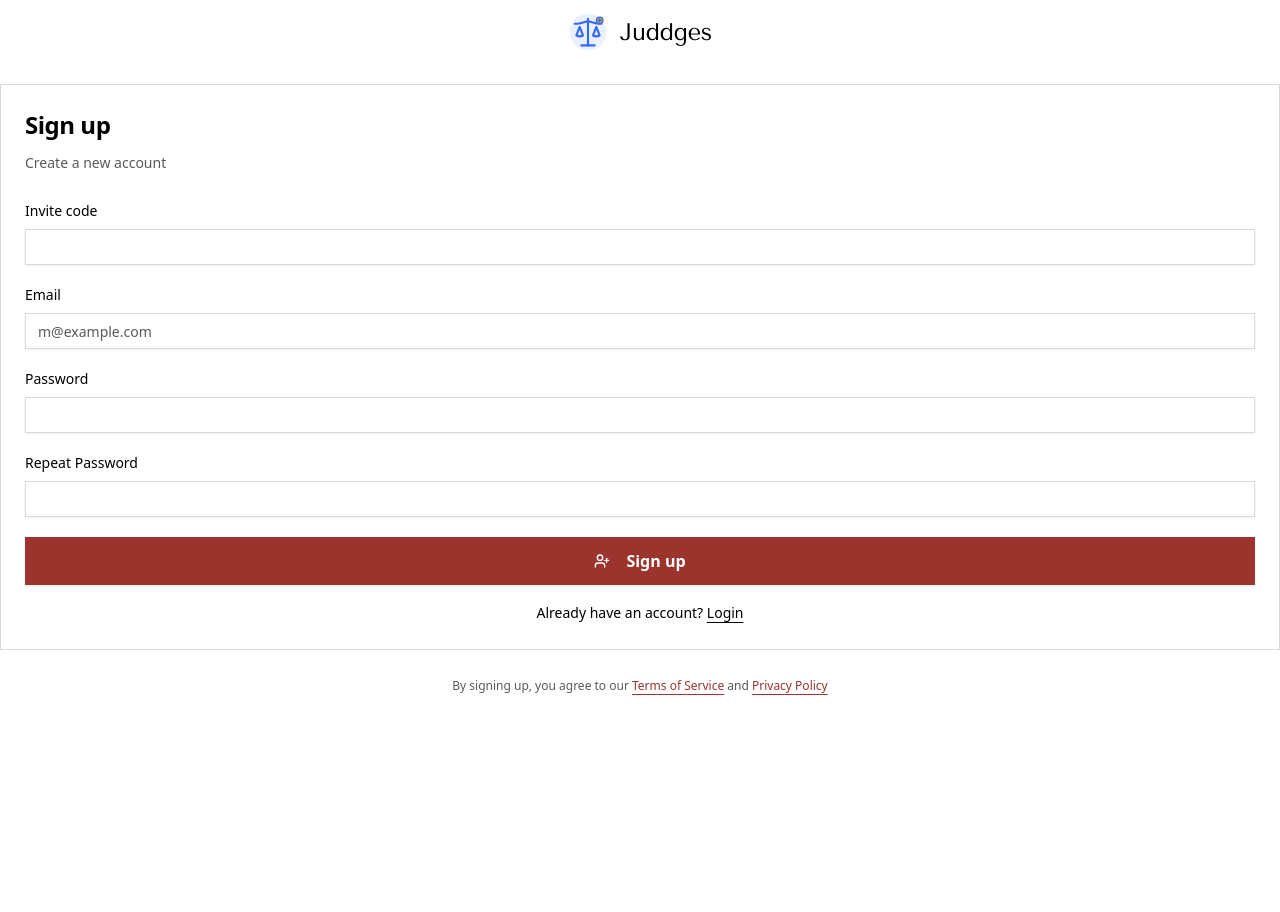
SignUpForm invite redemption errors › still falls back to detail.message for a non-429 refusal
In the field labelled "Invite code": x=640, y=247 [25, 229, 1255, 265], type "PILOT-2026"
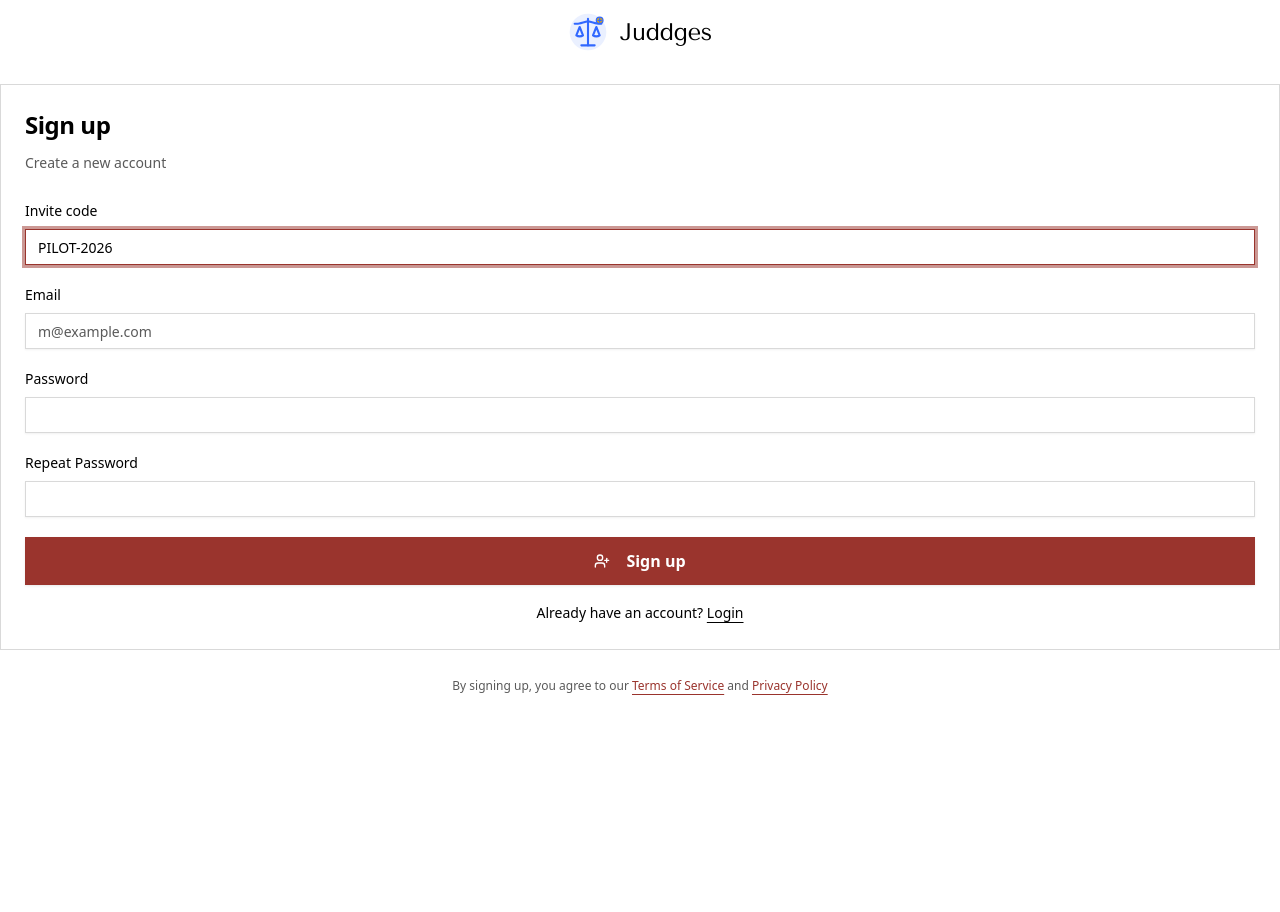
In the field labelled "Email": x=640, y=331 [25, 313, 1255, 349], type "a@example.org"
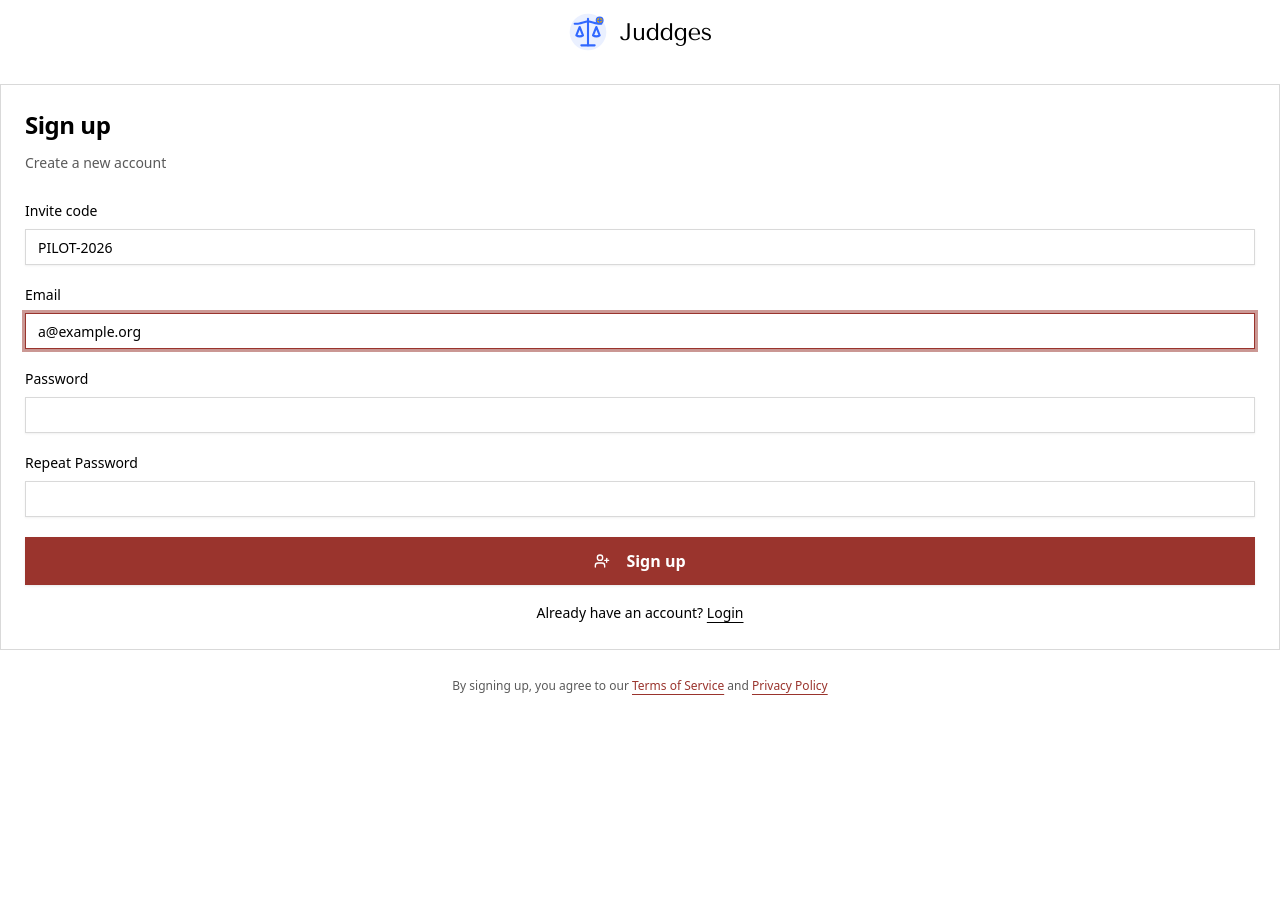
In the password field labelled "Password": x=640, y=415 [25, 397, 1255, 433], type "correct horse battery"
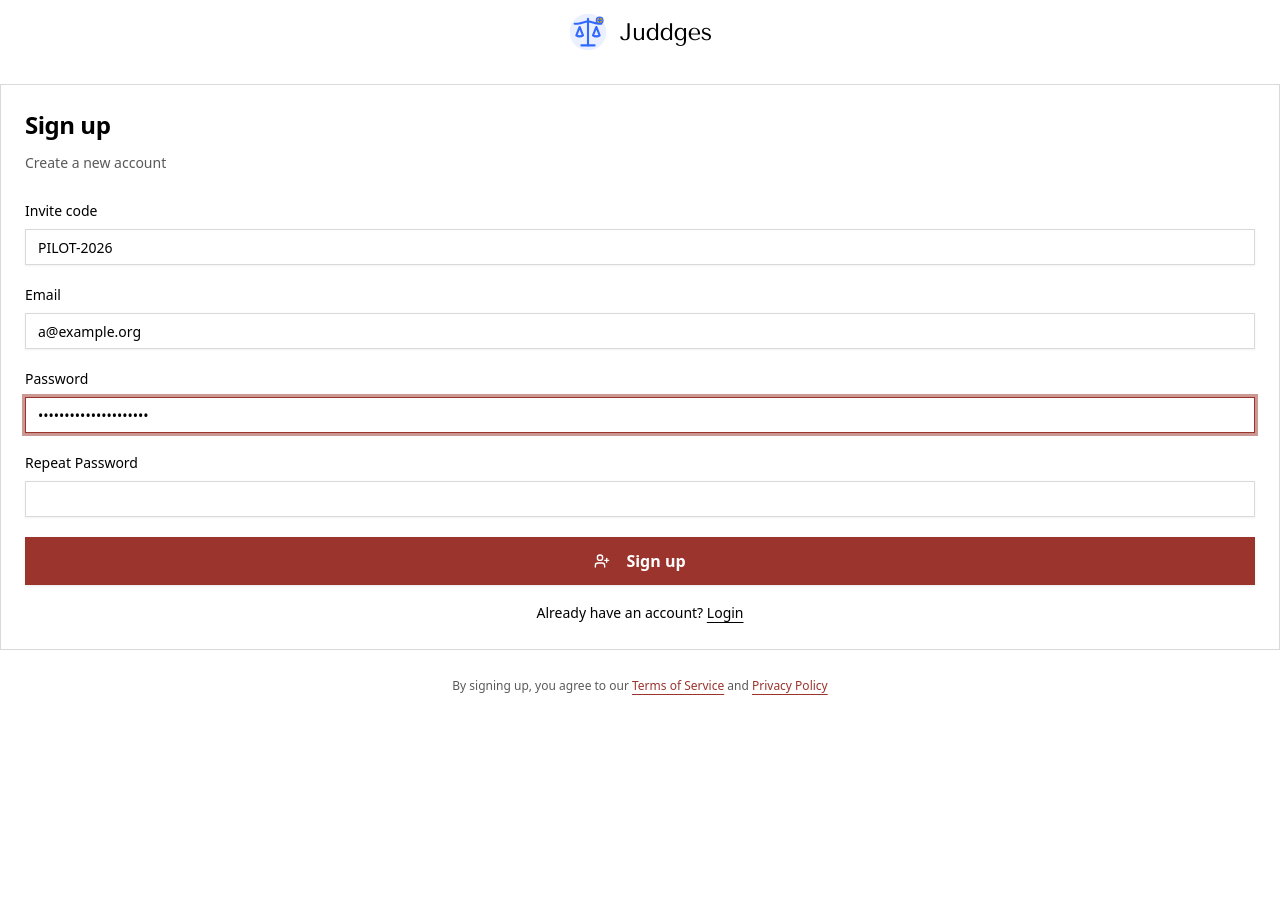
In the password field labelled "Repeat Password": x=640, y=499 [25, 481, 1255, 517], type "correct horse battery"
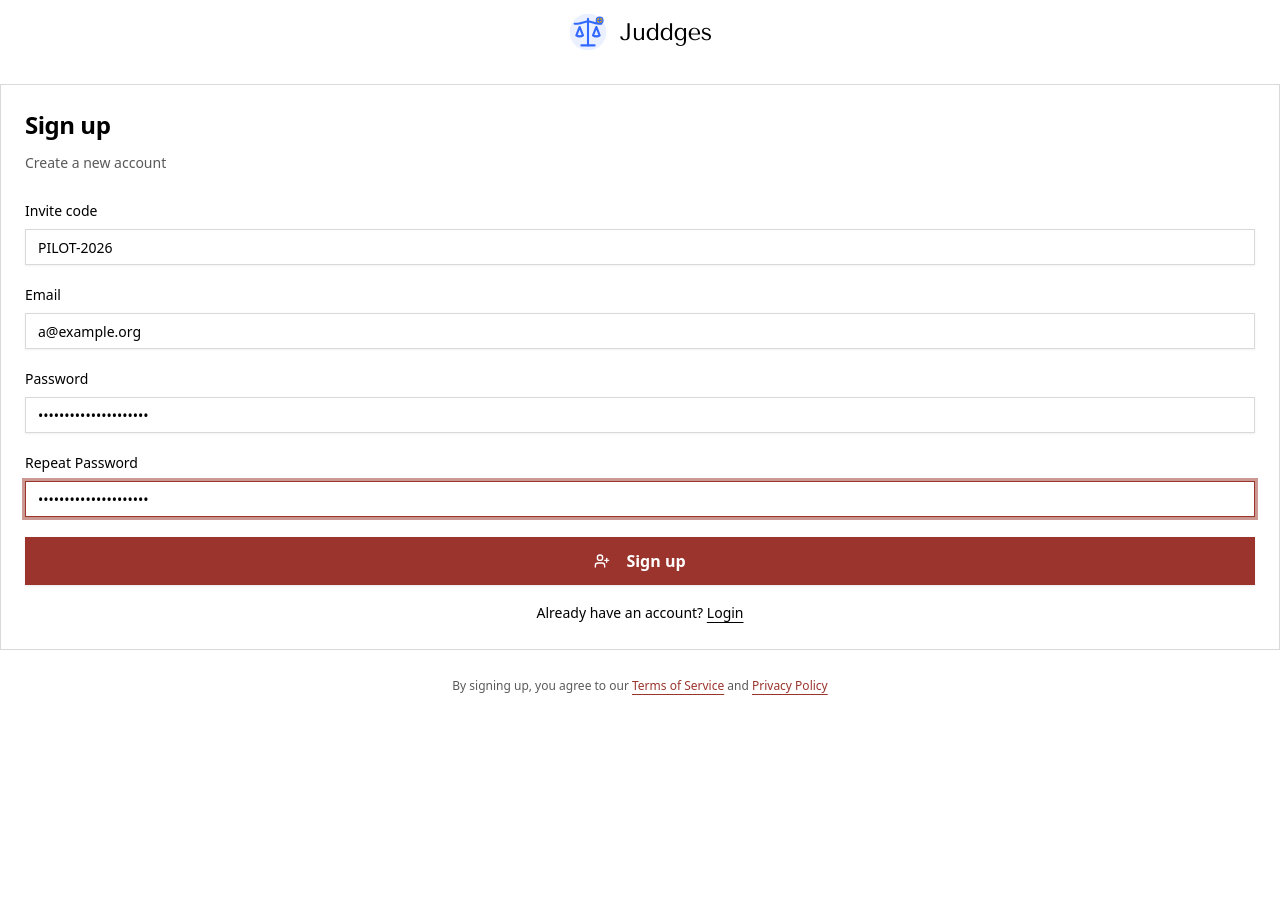
Click the button "Sign up": x=640, y=561 [25, 537, 1255, 585]
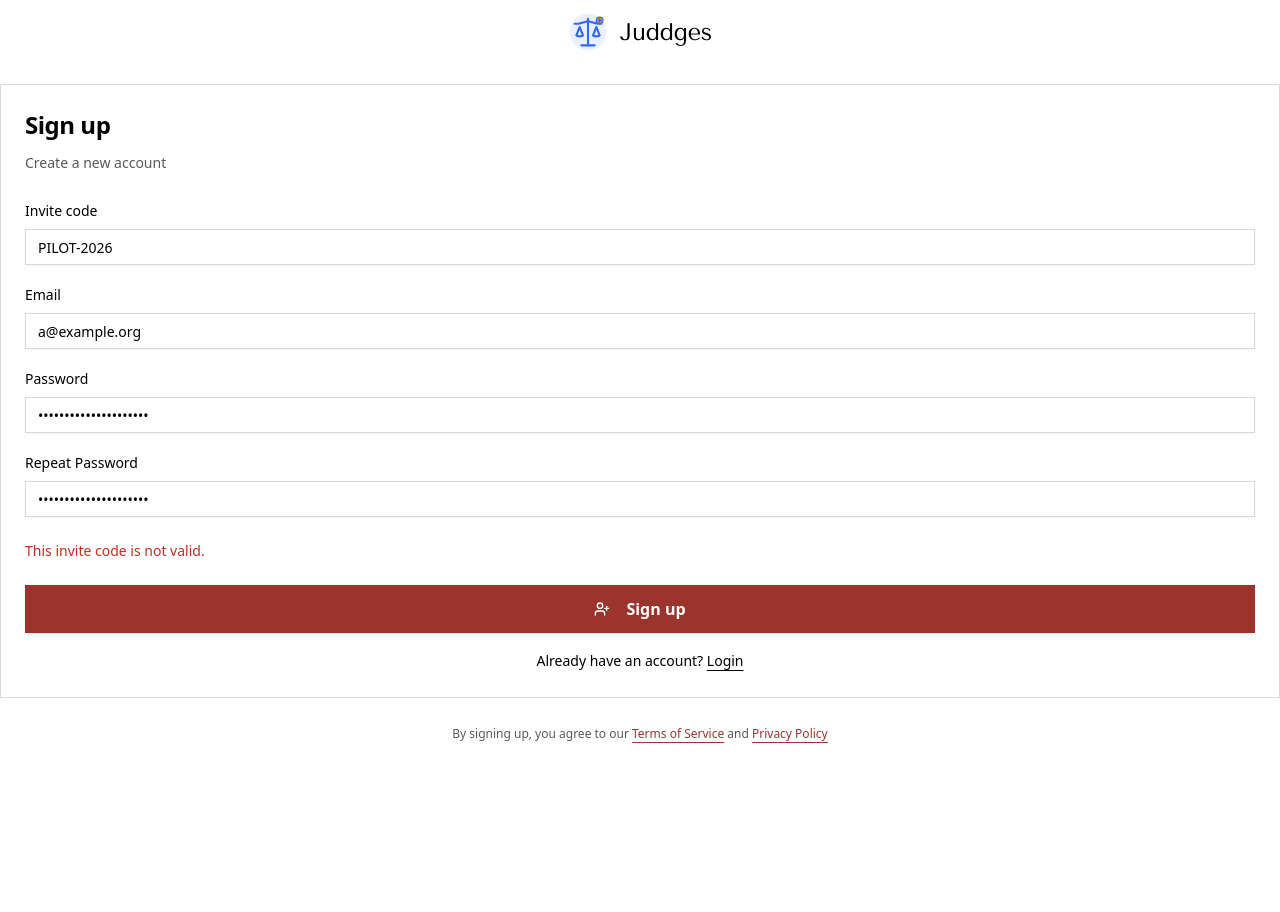
expect the text "This invite code is not valid." is shown: met, box [25, 541, 205, 560]
